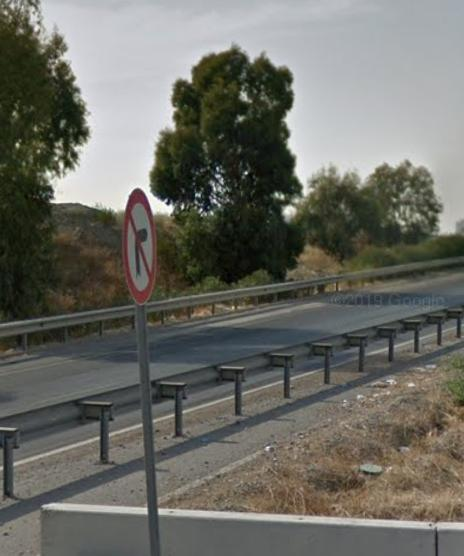rightturnsareforbidden: (124, 190, 160, 303)
